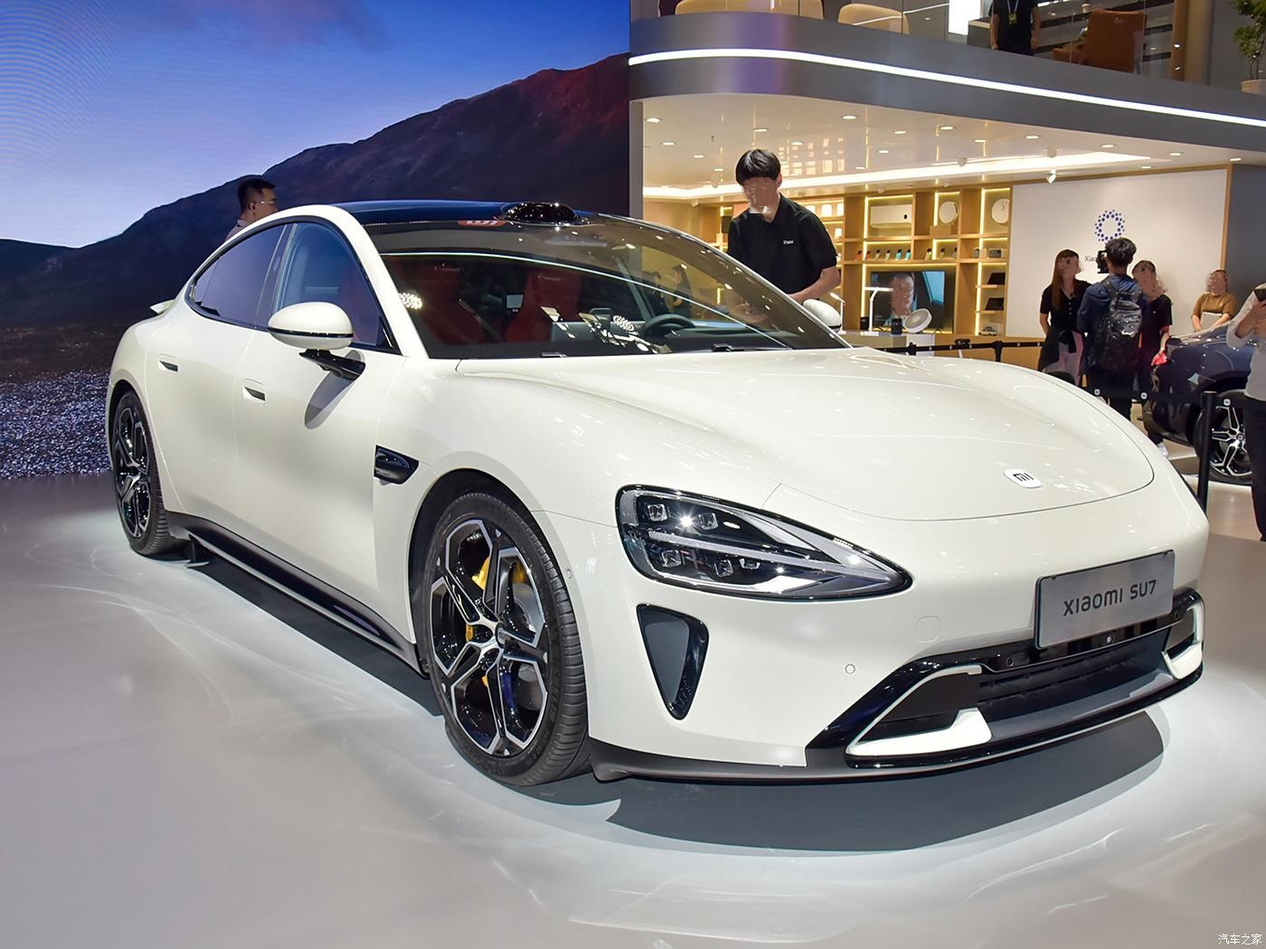XIAOMI: (1003, 468, 1044, 490)
